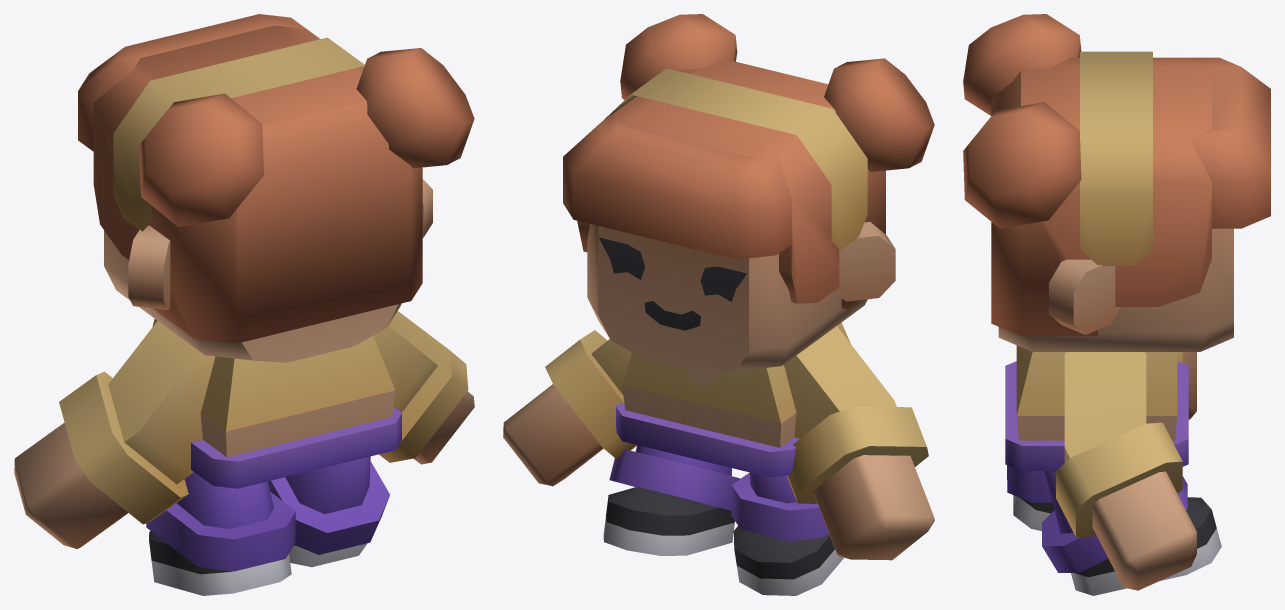
The model's file is hand_1_w2.fbx.
3 renders of one model, left to right at view 1: azimuth 30°, elevation 25°; view 2: azimuth 150°, elevation 25°; view 3: azimuth 270°, elevation 25°, orthographic. The views are drawn at different scales.
Parts seen in each view (by area): view 1: body-mesh; view 2: body-mesh; view 3: body-mesh.
Boxes of the visible parts, left/top/right/bottom form: body-mesh: left=14, top=14, right=474, bottom=595; body-mesh: left=503, top=14, right=934, bottom=595; body-mesh: left=963, top=14, right=1270, bottom=595.
Size of the model in its own units: 0.8856 by 1 by 0.5582.
